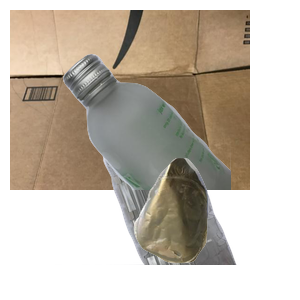cardboard: (10, 10, 250, 190)
glass: (60, 51, 300, 231)
plastic: (55, 120, 284, 300)
trash: (131, 155, 300, 300)
